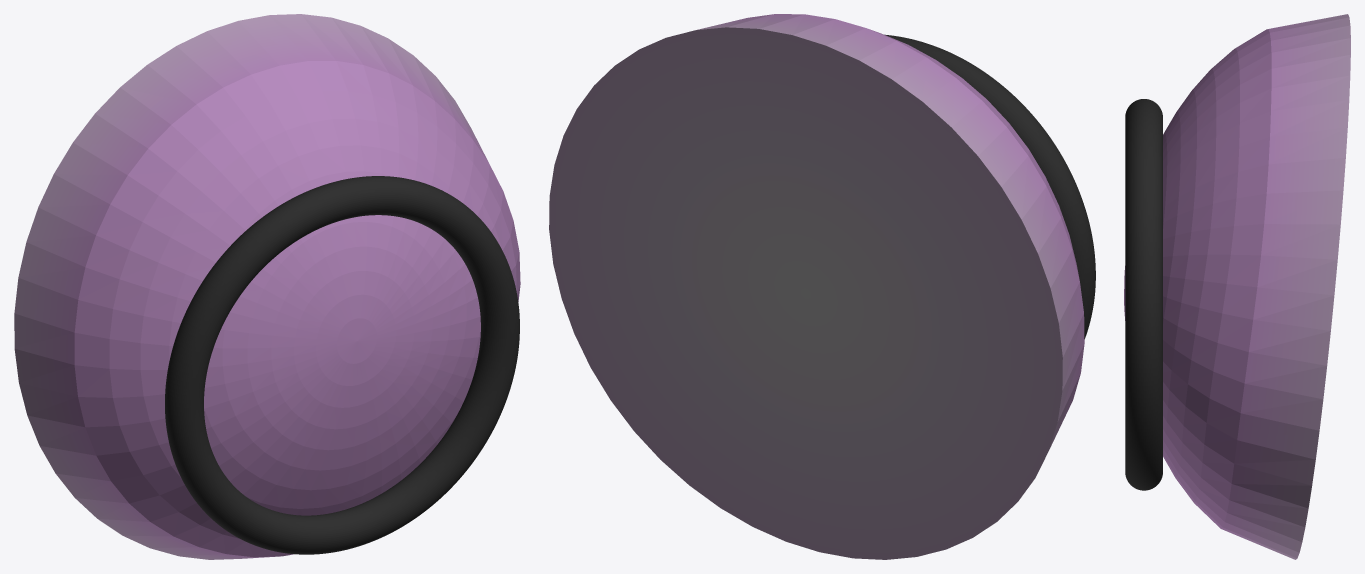
3 renders of one model, left to right at view 1: azimuth 30°, elevation 25°; view 2: azimuth 150°, elevation 25°; view 3: azimuth 270°, elevation 25°, orthographic. The views are drawn at different scales.
Visible parts, largest first — view 1: polyp_body_inferred_base_gray, fixed_CAD_Ring; view 2: polyp_body_inferred_base_gray, fixed_CAD_Ring; view 3: polyp_body_inferred_base_gray, fixed_CAD_Ring.
Boxes of the visible parts, <box> form: polyp_body_inferred_base_gray: <box>14,14,520,559</box>; fixed_CAD_Ring: <box>165,176,519,554</box>; polyp_body_inferred_base_gray: <box>549,14,1084,559</box>; fixed_CAD_Ring: <box>884,34,1095,339</box>; polyp_body_inferred_base_gray: <box>1124,14,1350,559</box>; fixed_CAD_Ring: <box>1125,99,1162,490</box>.
Size of the model in its own units: 0.0171 by 0.0173 by 0.00718.
